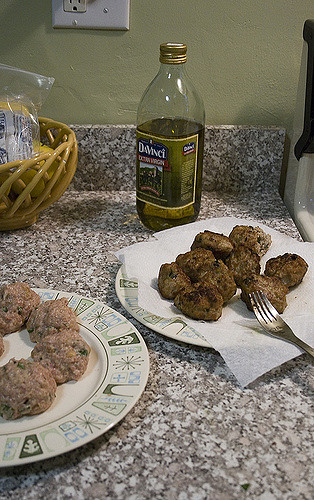meatballs: (163, 232, 300, 318), (1, 355, 57, 418), (33, 334, 89, 382), (27, 298, 80, 342), (2, 285, 43, 327)
